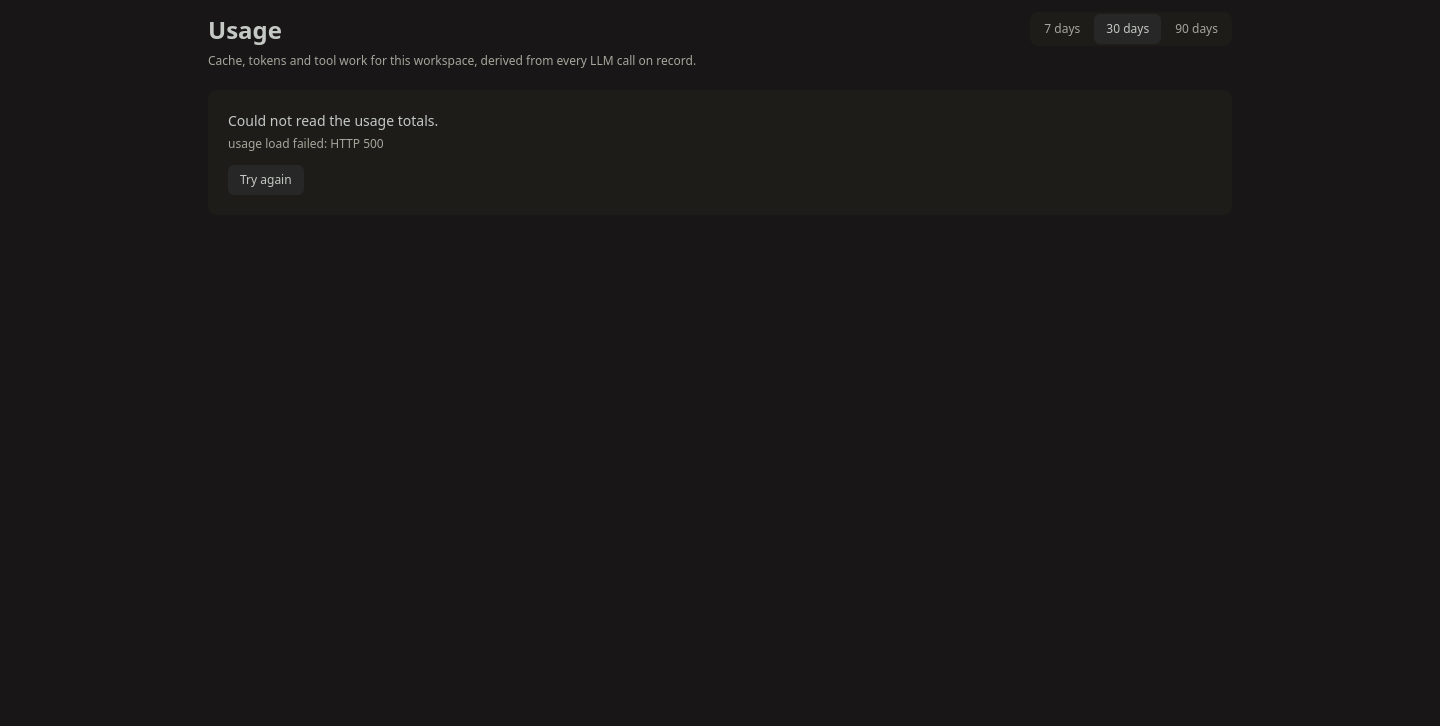
Test case: WorkspaceUsageSection › shows the failure and a retry instead of an empty page
This screenshot has width=1440, height=726.
expect the element with test id "usage-error" shows "HTTP 500": met, box [228, 135, 384, 152]
Click the button with test id "usage-retry".
click(266, 180)  # box [228, 165, 304, 195]
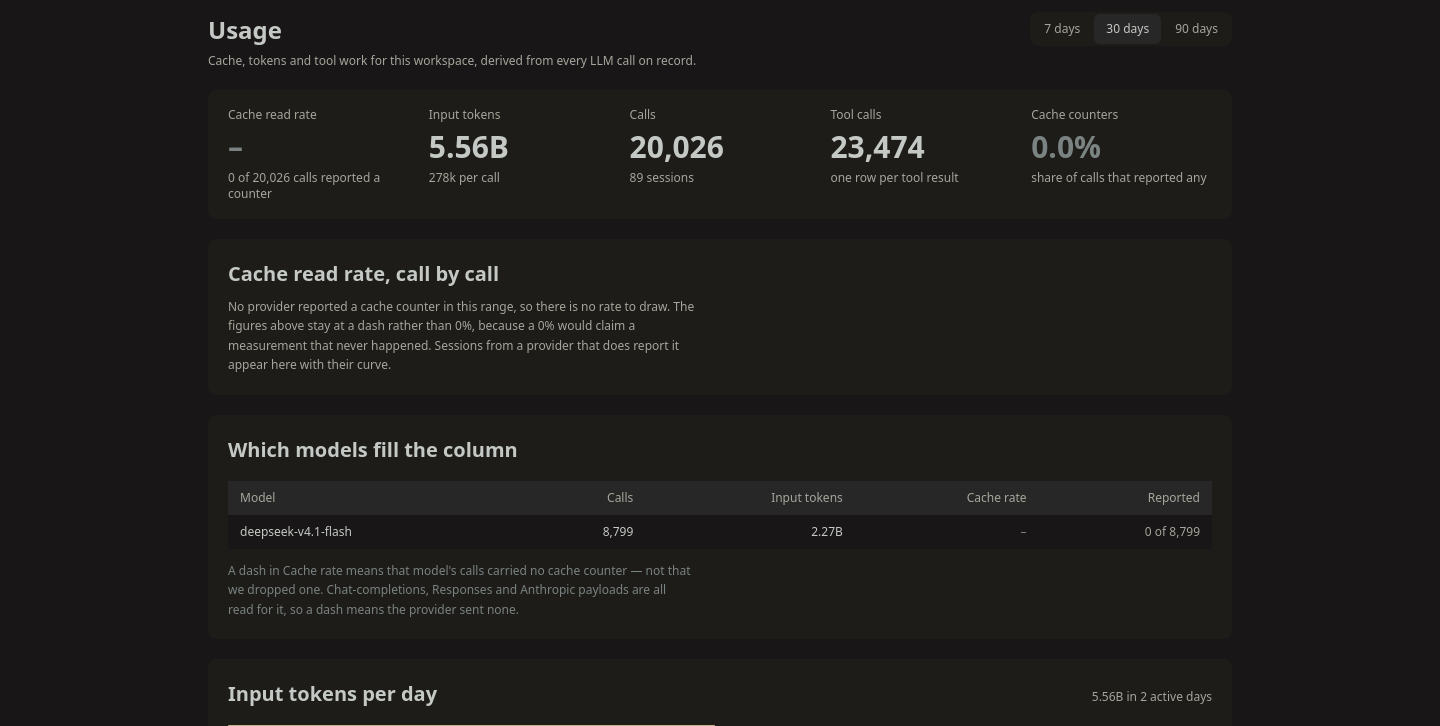
expect the text with test id "usage-figure-calls" reads "20,026": met, box [630, 126, 724, 167]
